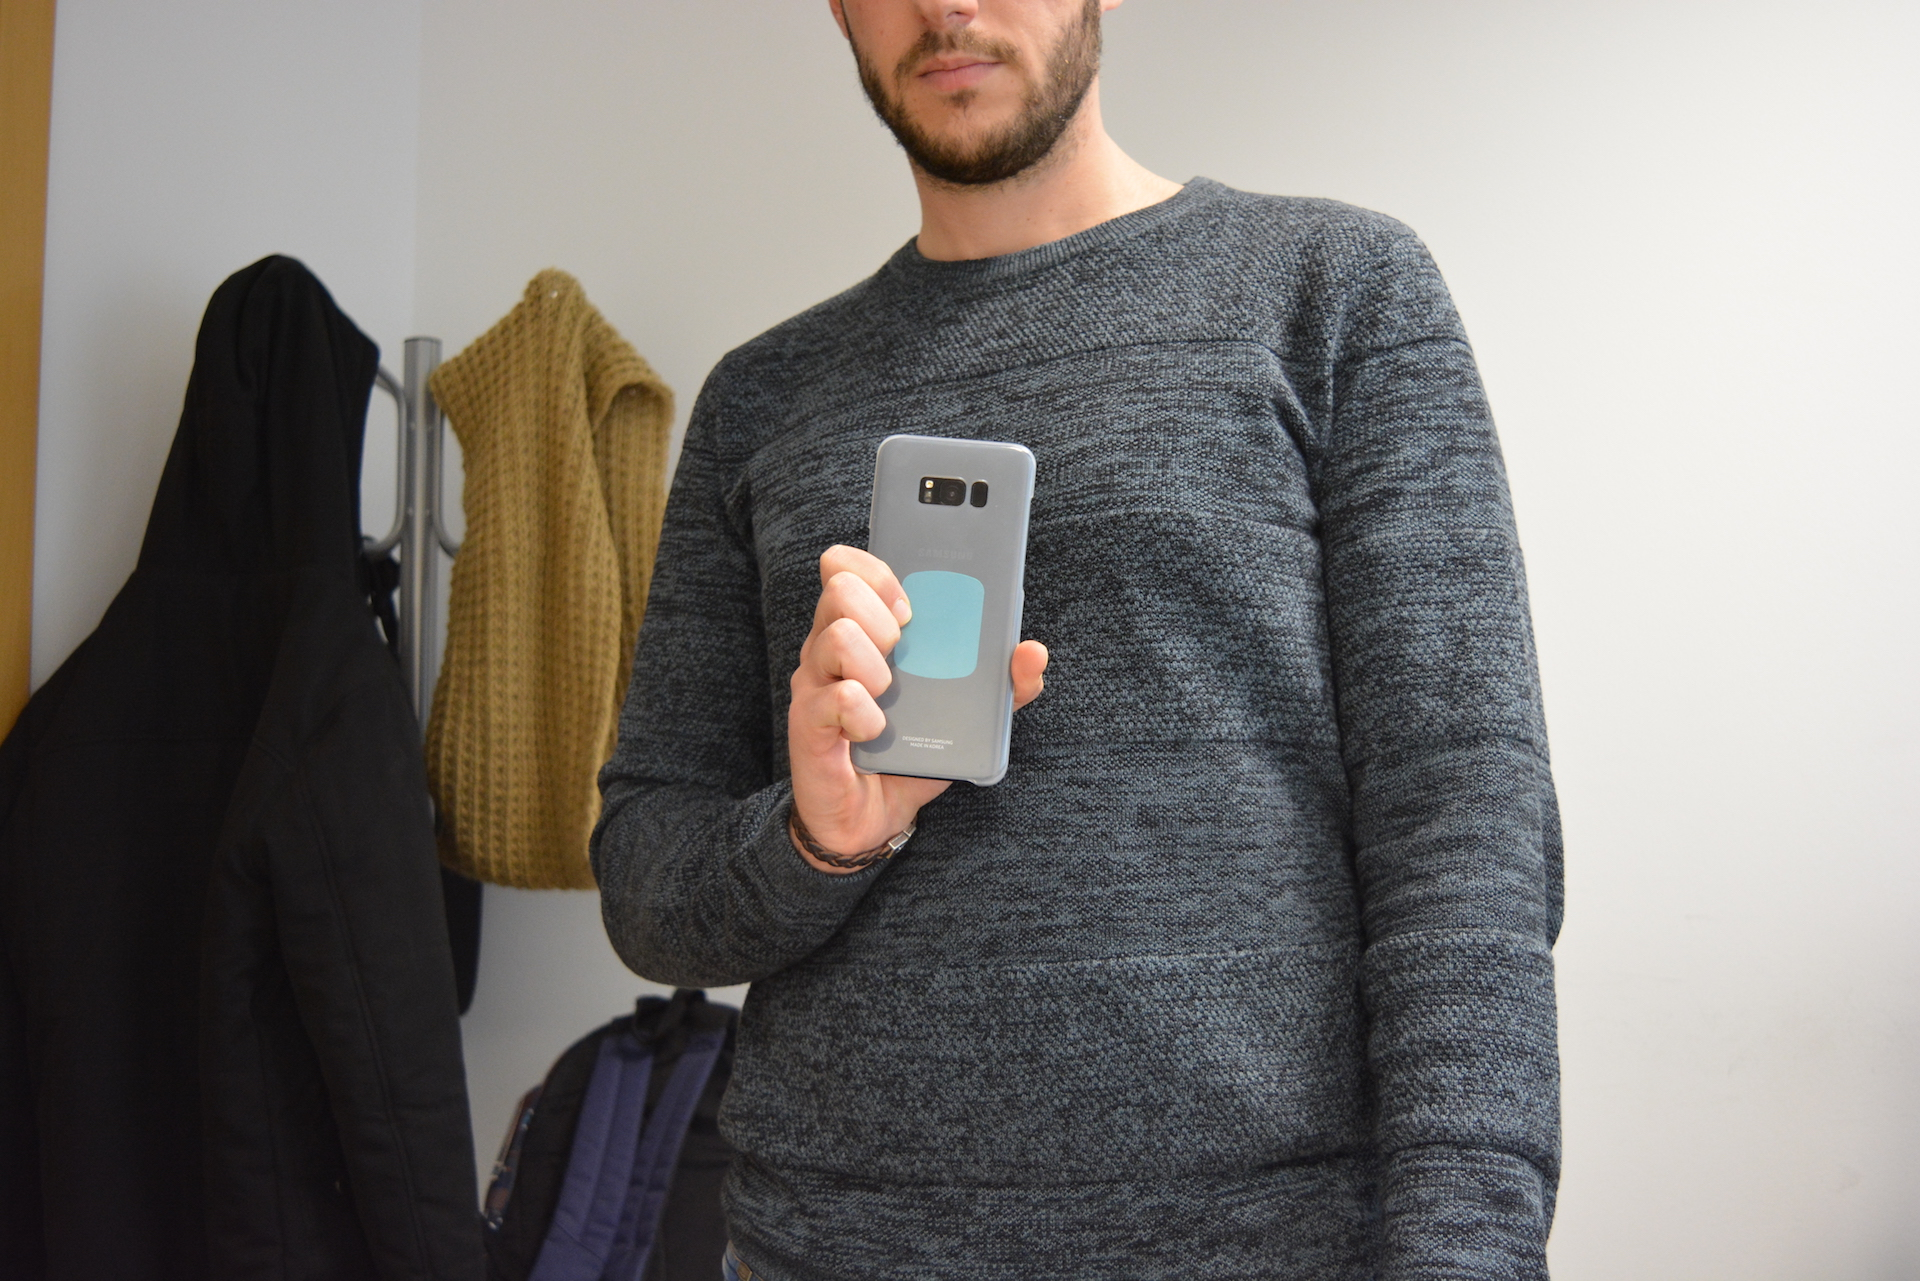smartphone: (848, 433, 1038, 789)
